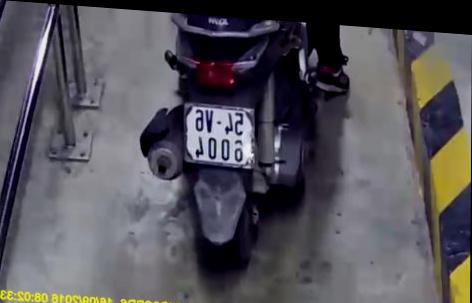License_Plate: (178, 99, 260, 178)
